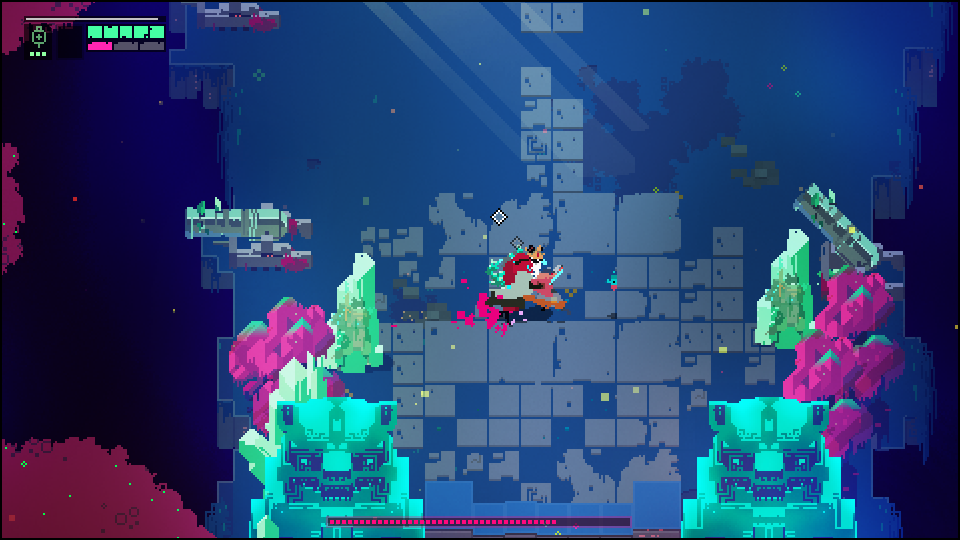hanged_man: (481, 242, 566, 323)
